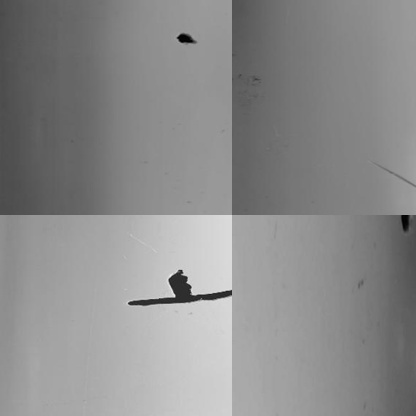fengxi: (127, 289, 234, 307)
kongdong: (161, 264, 192, 297), (176, 30, 194, 48)
sunshang: (374, 164, 413, 194)
